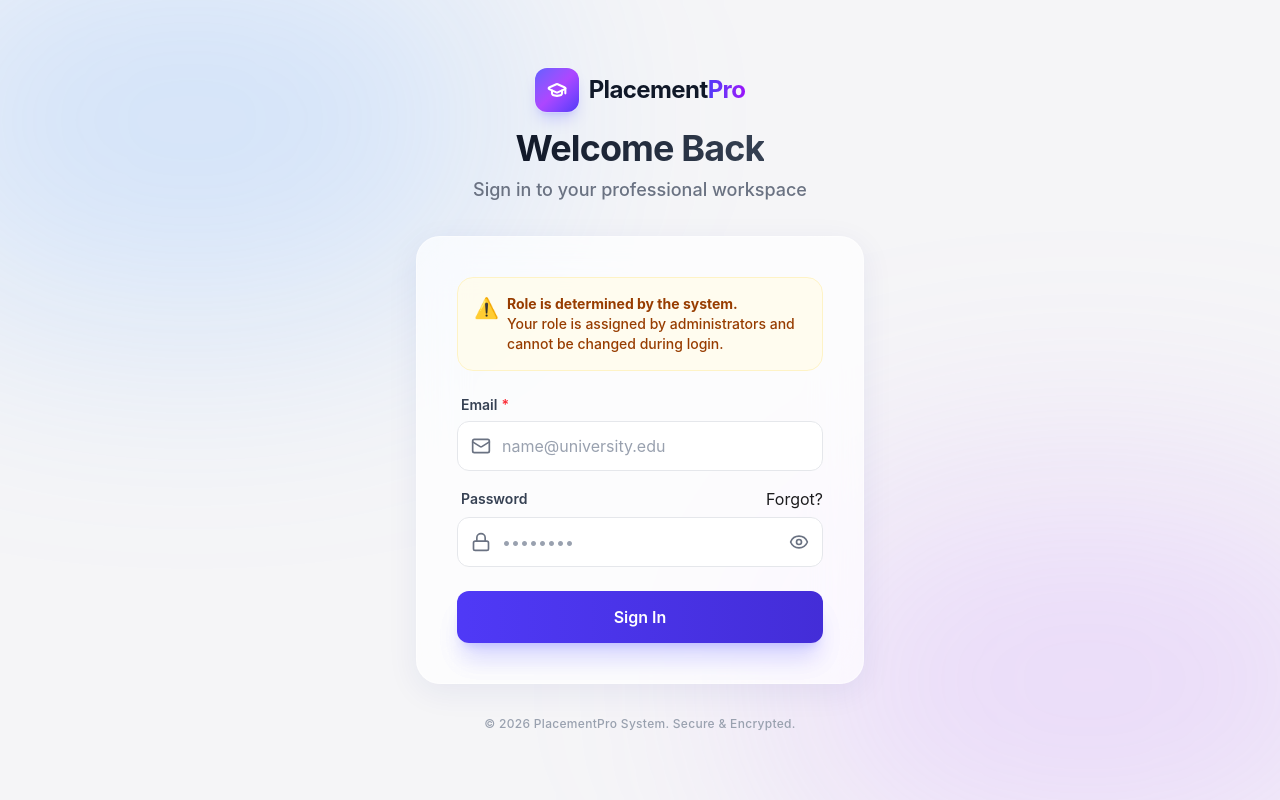
LoginPage › Error Messages › clears error when input changes
Type "user@test.edu" into the field with placeholder "name@university.edu".
click(640, 446); type("user@test.edu")  # box [457, 421, 823, 471]
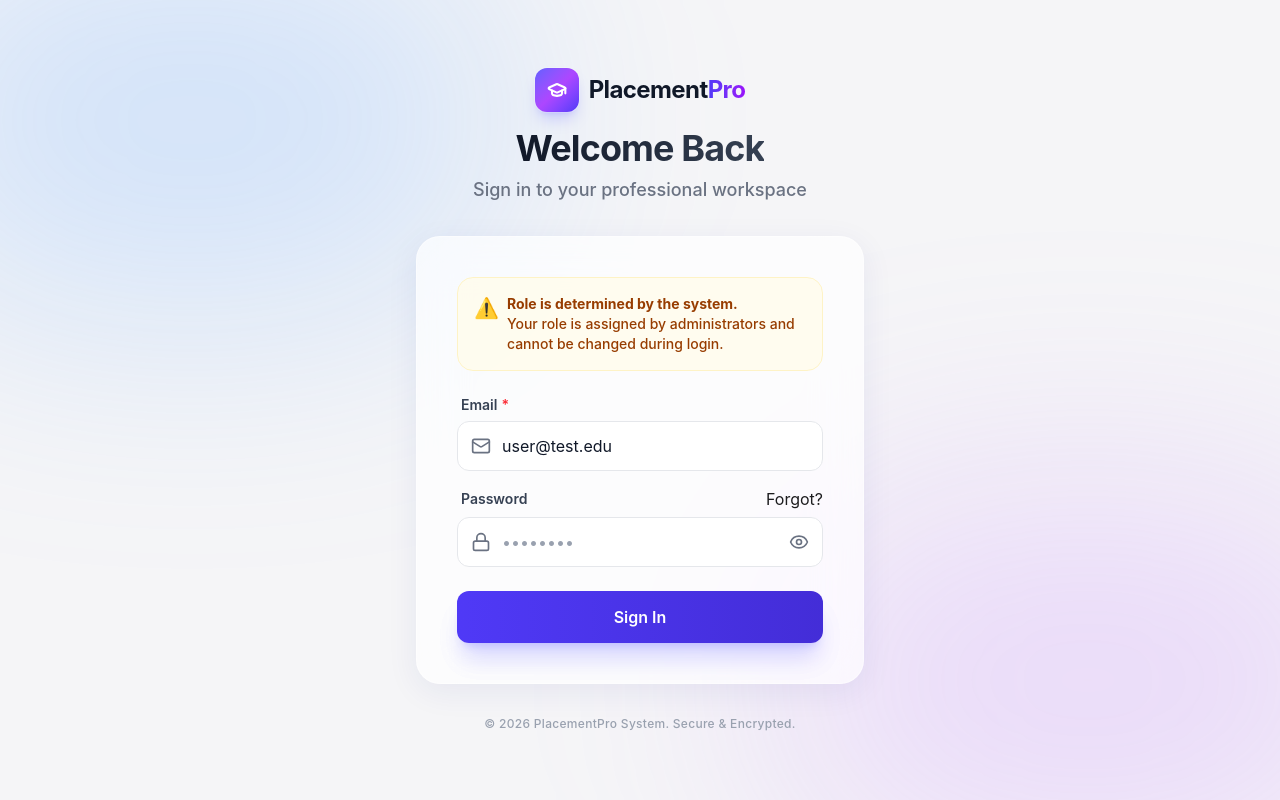
Type "wrong" into the password field with placeholder "••••••••".
click(640, 542); type("wrong")  # box [457, 517, 823, 567]
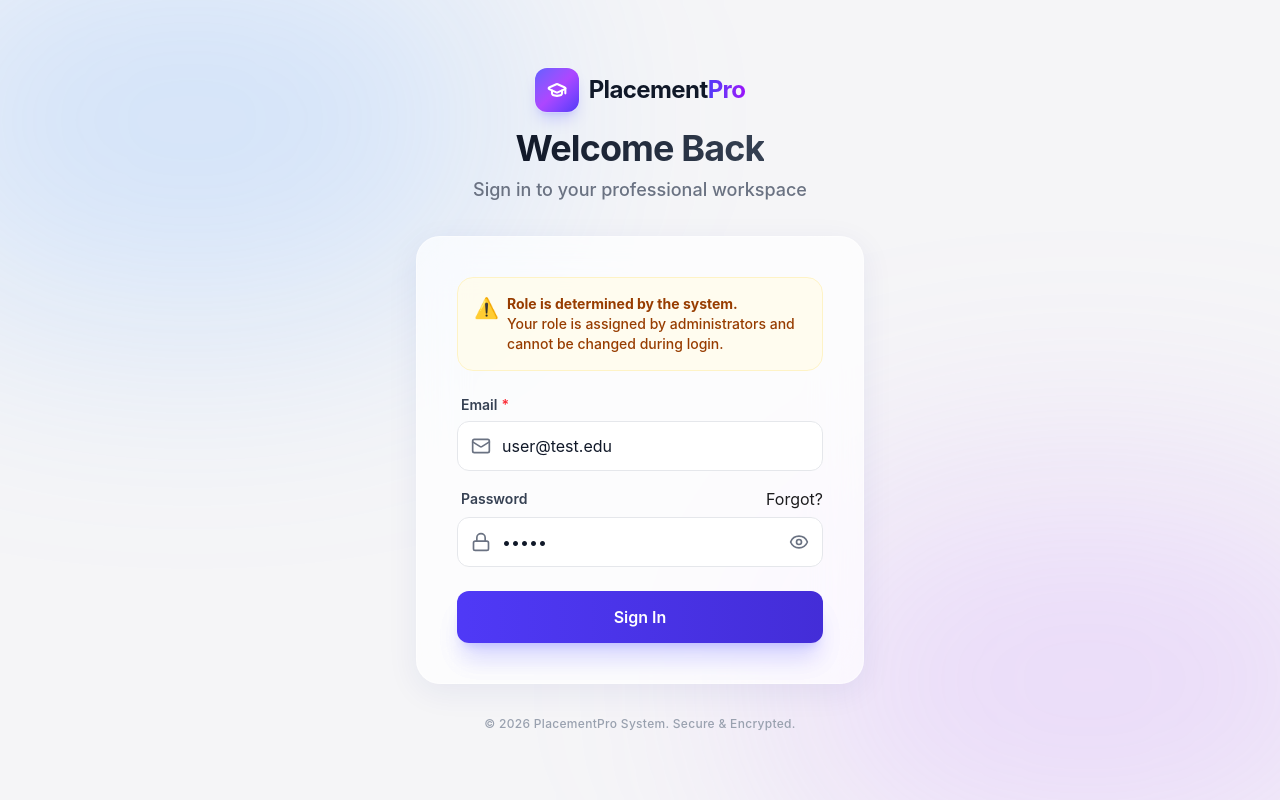
Submit the form named "sign in", box [457, 277, 823, 643]
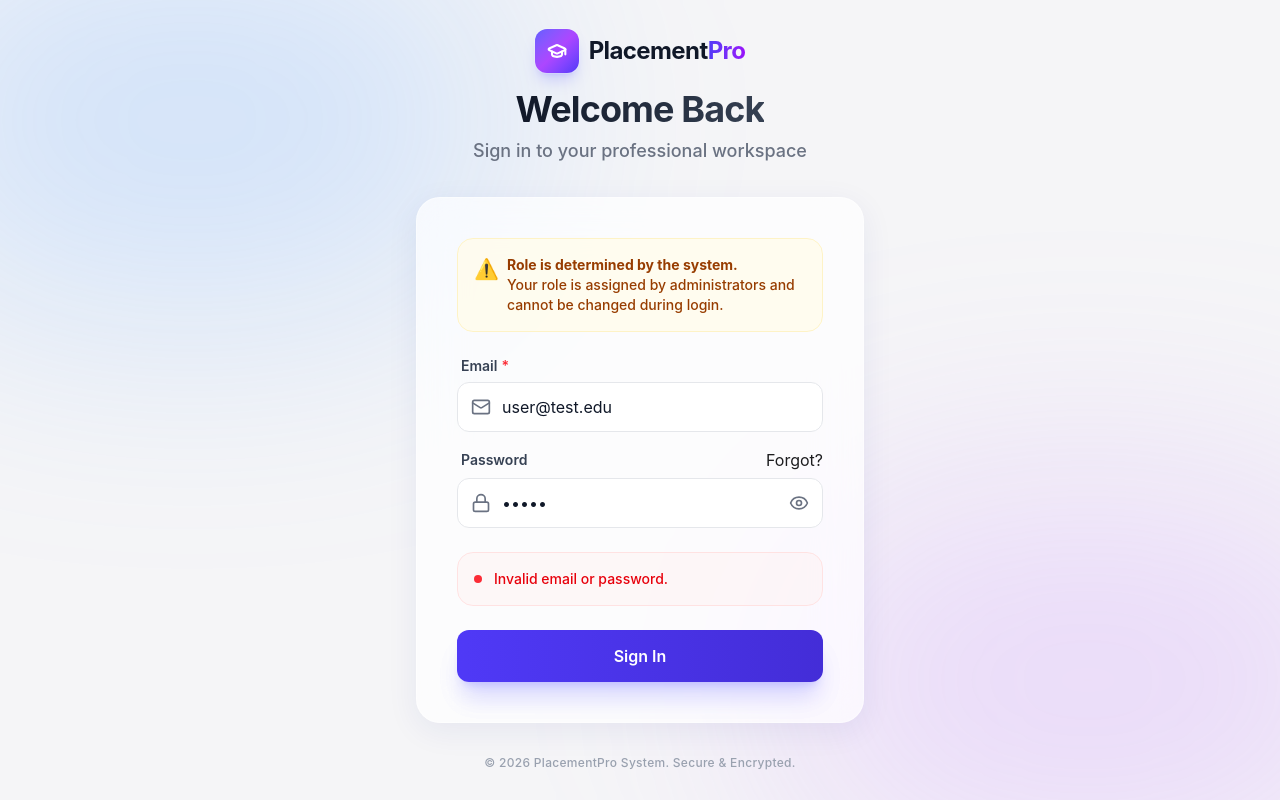
Check: the text "Invalid email or password." is shown, box [494, 569, 668, 589]
# Change input to clear error
Replace the text in the field with placeholder "name@university.edu" with "newuser@test.edu" at (640, 407), box [457, 382, 823, 432]
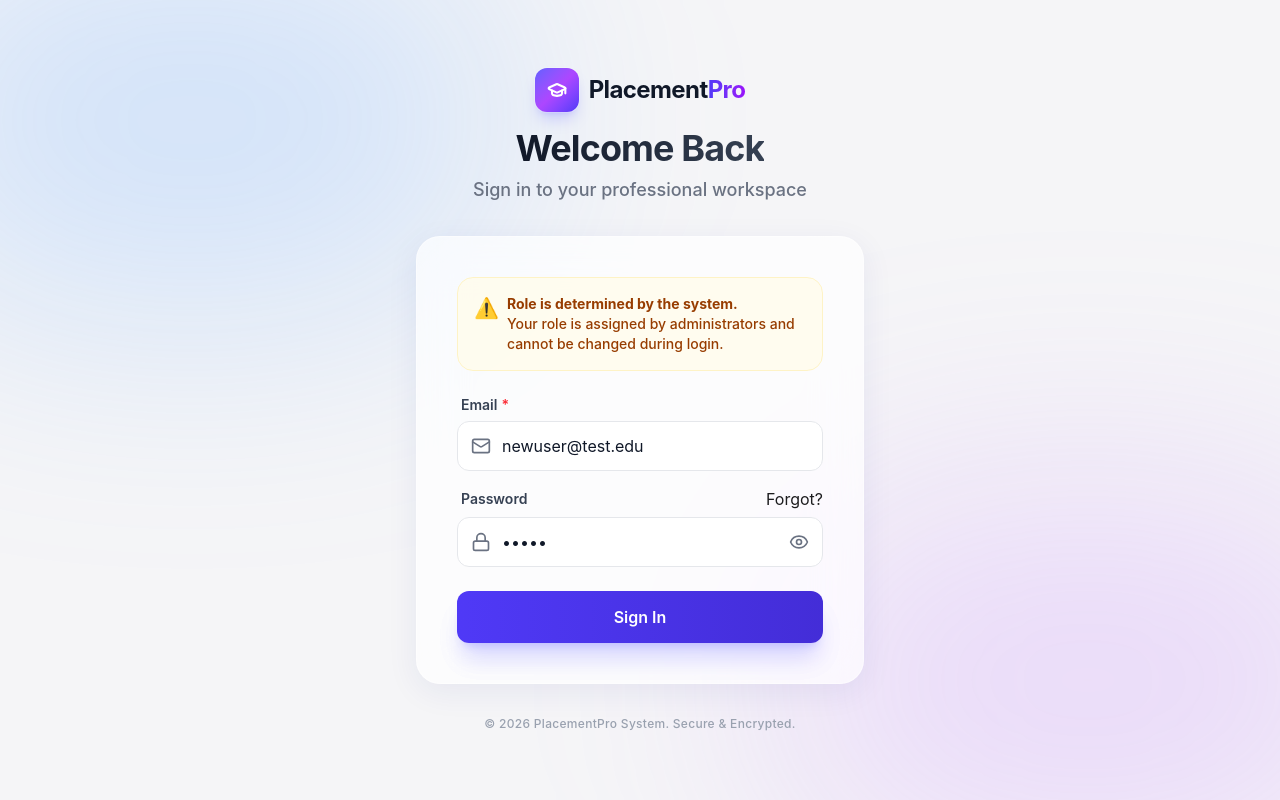
Check: the text "Invalid email or password" is gone
